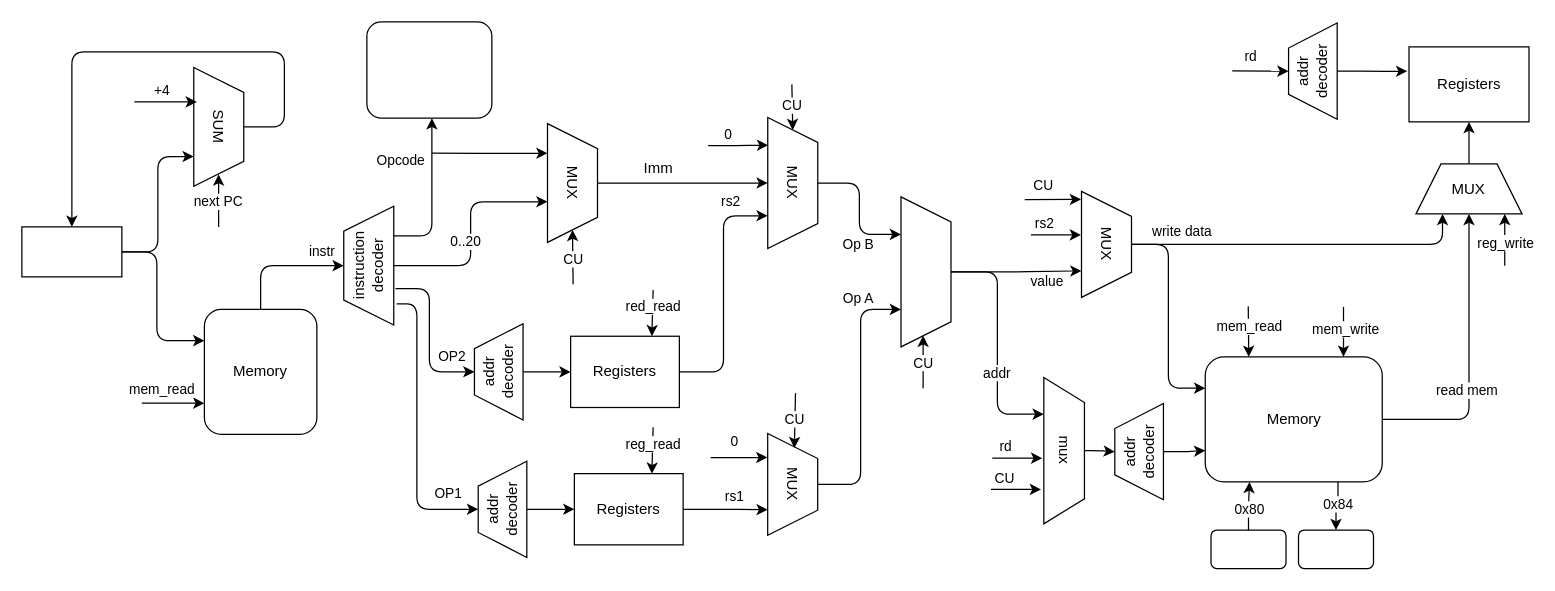
Image size: 1555x591. Some labels were removed from this diagram. Each missing label, with the box of its shape:
ALU: (900, 196, 951, 347)
Control Unit: (366, 21, 492, 118)
Input: (1210, 529, 1286, 568)
Output: (1297, 529, 1374, 568)
PC: (21, 226, 122, 277)
